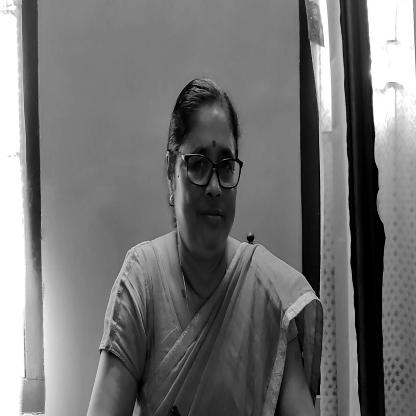Normal: (166, 84, 243, 265)
